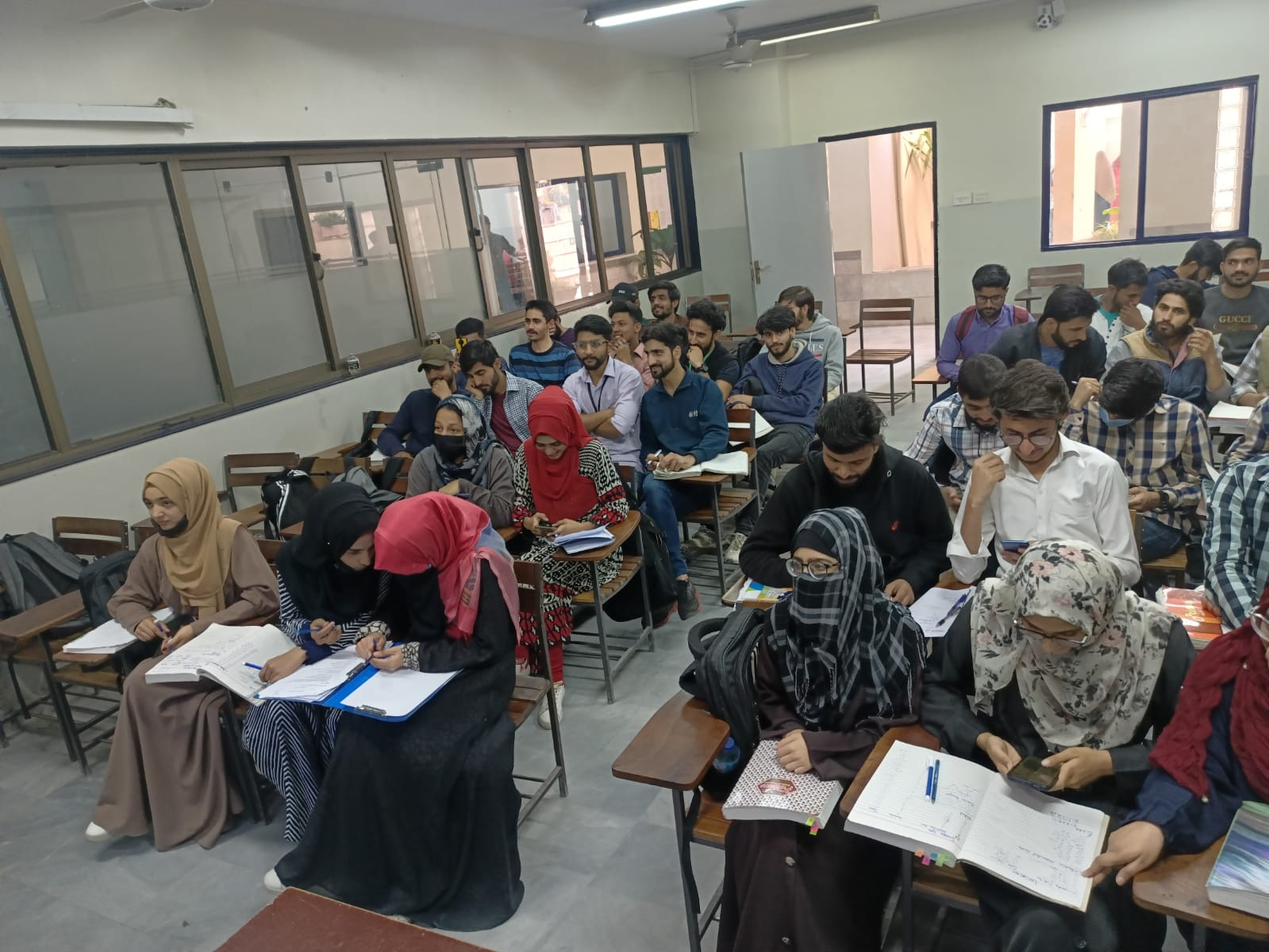non-cheating: (1003, 539, 1125, 659), (783, 506, 878, 610), (990, 359, 1071, 466), (814, 390, 889, 484), (140, 458, 213, 531), (527, 386, 575, 460), (433, 394, 485, 459), (1152, 279, 1206, 339), (956, 352, 996, 430), (972, 264, 1011, 320), (572, 314, 610, 370), (1220, 236, 1262, 286), (686, 298, 727, 347), (756, 307, 797, 356), (417, 344, 459, 389), (524, 299, 556, 341), (649, 280, 680, 318)
phone: (989, 745, 1104, 792), (529, 512, 574, 539)
